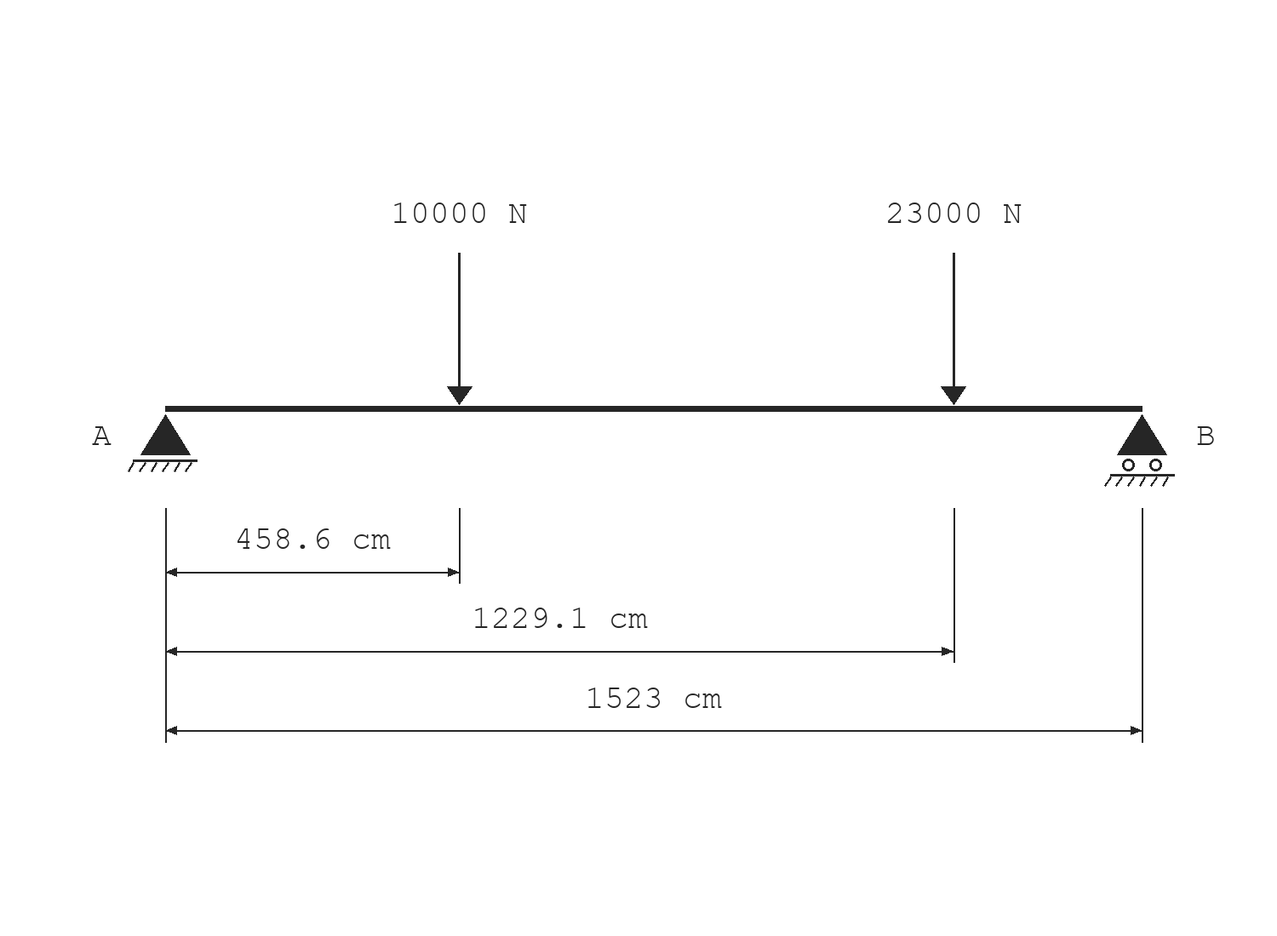pin_support: (128, 414, 198, 472)
point_load: (447, 253, 472, 405), (941, 253, 966, 405)
roller_support: (1104, 414, 1175, 487)
